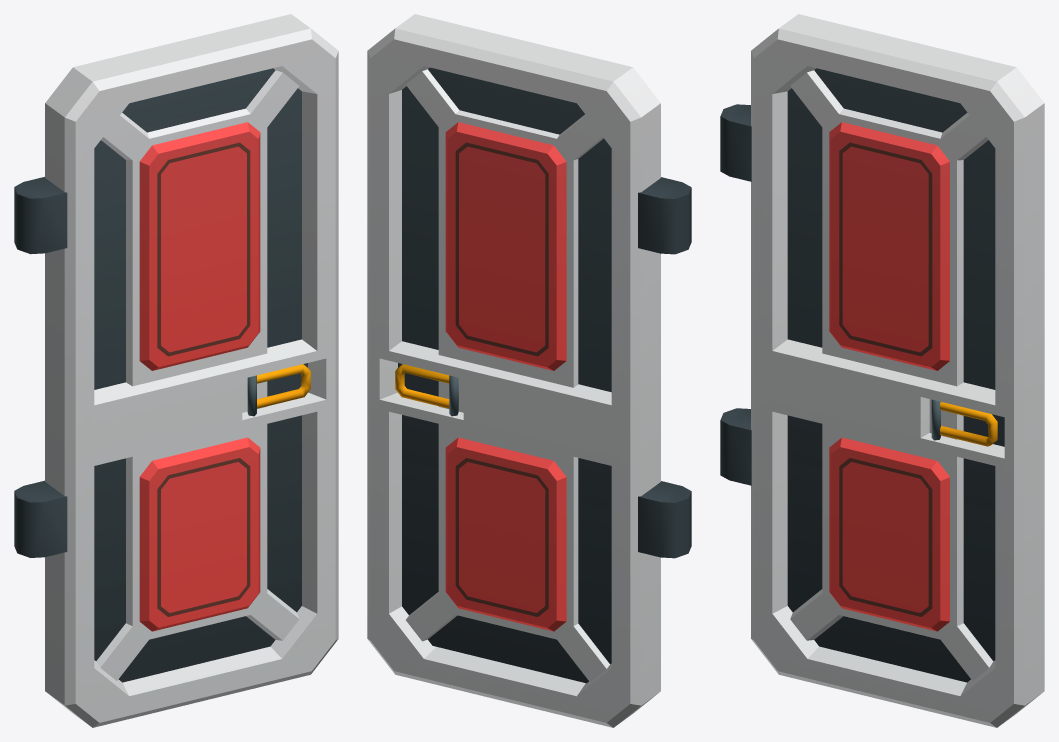
File: Door_panel_001.fbx
3 views of the same model, side by side, from view 1: azimuth 30°, elevation 25°; view 2: azimuth 150°, elevation 25°; view 3: azimuth 330°, elevation 25° (orthographic).
Visible parts, largest first — view 1: Door_panel_001; view 2: Door_panel_001; view 3: Door_panel_001.
Part boxes in pixels (box(x1,y1,x2,y2)): Door_panel_001: box(14, 14, 338, 727); Door_panel_001: box(367, 14, 691, 727); Door_panel_001: box(720, 14, 1044, 727).
Size of the model in its own units: 134 by 20.7 by 266.
